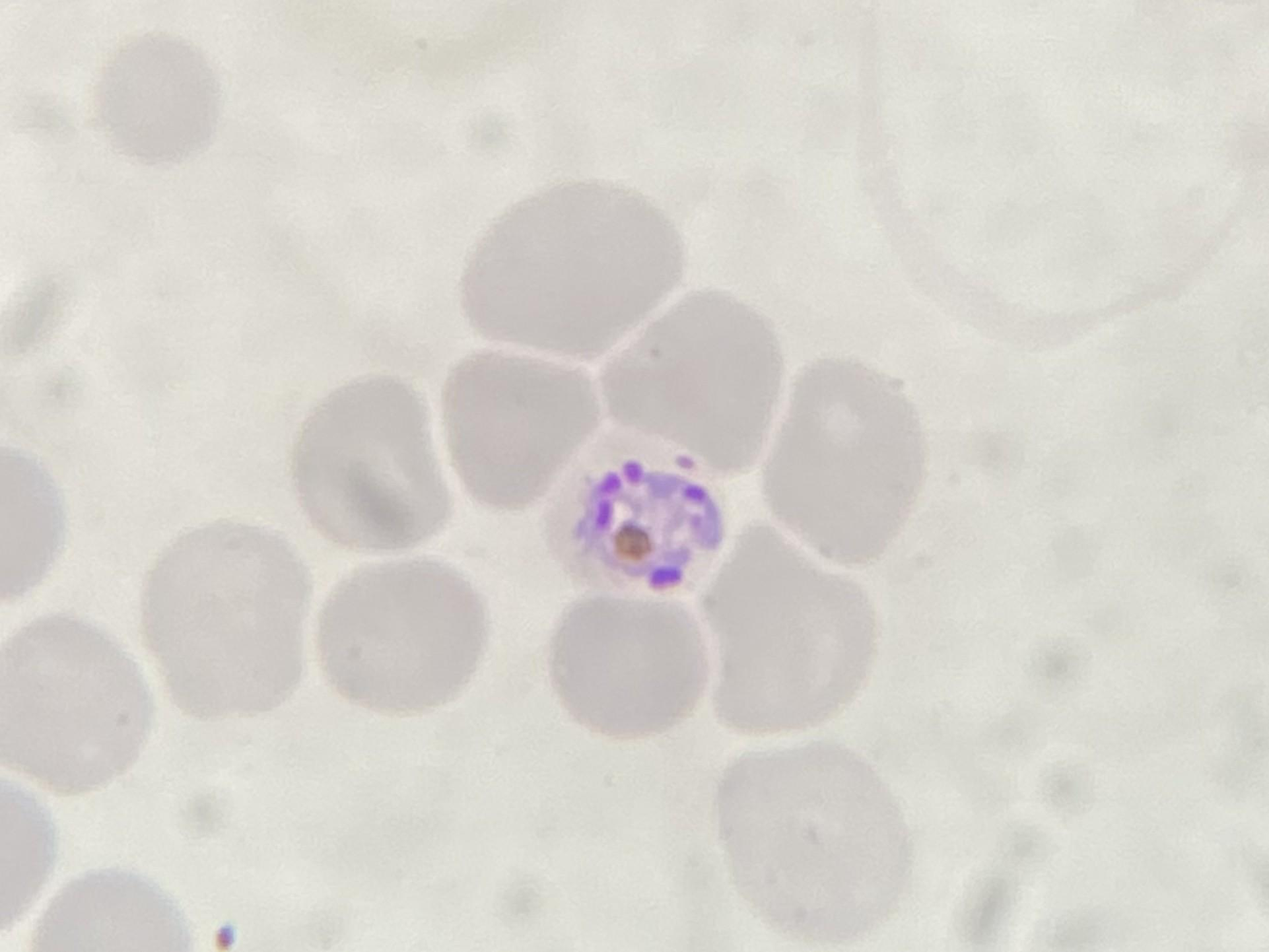Infected: (533, 353, 729, 518)
Uninfected: (361, 3, 562, 213), (588, 597, 811, 763), (394, 216, 568, 427), (475, 467, 662, 662), (946, 232, 1134, 420), (346, 386, 502, 593), (783, 236, 964, 402), (823, 392, 985, 576), (1114, 153, 1269, 344), (667, 441, 832, 608), (548, 216, 715, 358), (1043, 778, 1178, 925)
